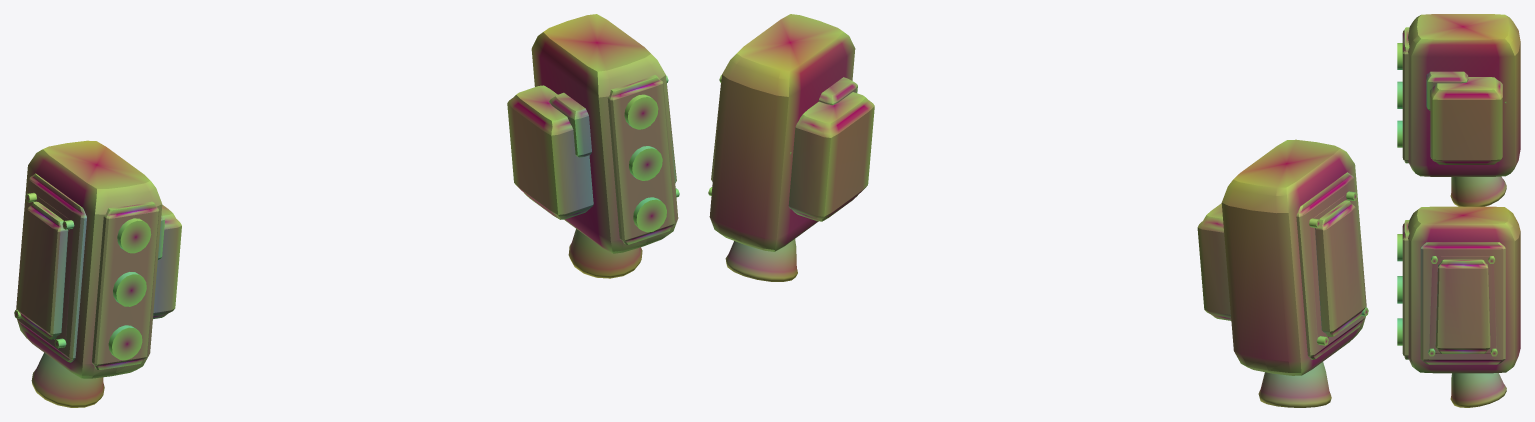
The model's file is llm_gen_leg_thrusters_103_4442d6.glb.
3 renders of one model, left to right at view 1: azimuth 30°, elevation 25°; view 2: azimuth 150°, elevation 25°; view 3: azimuth 270°, elevation 25°, orthographic. The views are drawn at different scales.
Parts seen in each view (by area): view 1: leg_missile_hull_0_cobalt_anodized_r, leg_missile_hull_0_cobalt_anodized_l, adapter_calf_clamp_r, leg_pod_armor_cover_6_barrel_metal_l, adapter_sub_missile_bezel_dark_1_adapter_dark_l, adapter_sub_missile_bezel_dark_1_adapter_dark_r, adapter_sub_side_frame_dark_5_adapter_dark_l, leg_ankle_bell_7_vernier_bell_vernier_l, leg_ankle_bell_7_vernier_bell_vernier_r, adapter_calf_clamp_l, adapter_leg_knee_mount_dark_8_adapter_dark_r, leg_cell_top_2_gold_l (+5 smaller); view 2: leg_missile_hull_0_cobalt_anodized_r, leg_missile_hull_0_cobalt_anodized_l, adapter_calf_clamp_r, leg_pod_armor_cover_6_barrel_metal_l, adapter_sub_side_frame_dark_5_adapter_dark_l, adapter_calf_clamp_l, leg_ankle_bell_7_vernier_bell_vernier_l, leg_ankle_bell_7_vernier_bell_vernier_r, adapter_leg_knee_mount_dark_8_adapter_dark_r; view 3: leg_missile_hull_0_cobalt_anodized_l, leg_missile_hull_0_cobalt_anodized_r, leg_pod_armor_cover_6_barrel_metal_r, adapter_calf_clamp_l, adapter_sub_side_frame_dark_5_adapter_dark_r, leg_ankle_bell_7_vernier_bell_vernier_r, leg_ankle_bell_7_vernier_bell_vernier_l, adapter_sub_missile_bezel_dark_1_adapter_dark_r, adapter_sub_missile_bezel_dark_1_adapter_dark_l, adapter_leg_knee_mount_dark_8_adapter_dark_l, leg_cell_top_2_gold_r, leg_cell_mid_3_gold_r (+4 smaller).
Part boxes in pixels (bbox=[...]): leg_missile_hull_0_cobalt_anodized_r: bbox=[531, 14, 678, 253]; leg_missile_hull_0_cobalt_anodized_l: bbox=[16, 140, 162, 378]; adapter_calf_clamp_r: bbox=[507, 85, 593, 219]; leg_pod_armor_cover_6_barrel_metal_l: bbox=[14, 192, 74, 348]; adapter_sub_missile_bezel_dark_1_adapter_dark_l: bbox=[92, 201, 159, 369]; adapter_sub_missile_bezel_dark_1_adapter_dark_r: bbox=[607, 75, 675, 244]; adapter_sub_side_frame_dark_5_adapter_dark_l: bbox=[17, 173, 86, 362]; leg_ankle_bell_7_vernier_bell_vernier_l: bbox=[31, 352, 104, 407]; leg_ankle_bell_7_vernier_bell_vernier_r: bbox=[568, 229, 642, 278]; adapter_calf_clamp_l: bbox=[153, 205, 181, 318]; adapter_leg_knee_mount_dark_8_adapter_dark_r: bbox=[549, 92, 591, 157]; leg_cell_top_2_gold_l: bbox=[117, 218, 151, 253]; leg_missile_hull_0_cobalt_anodized_r: bbox=[709, 14, 855, 251]; leg_missile_hull_0_cobalt_anodized_l: bbox=[1221, 139, 1366, 375]; adapter_calf_clamp_r: bbox=[788, 92, 874, 221]; leg_pod_armor_cover_6_barrel_metal_l: bbox=[1309, 191, 1368, 345]; adapter_sub_side_frame_dark_5_adapter_dark_l: bbox=[1296, 172, 1365, 359]; adapter_calf_clamp_l: bbox=[1197, 203, 1231, 320]; leg_ankle_bell_7_vernier_bell_vernier_l: bbox=[1258, 362, 1331, 407]; leg_ankle_bell_7_vernier_bell_vernier_r: bbox=[725, 239, 797, 281]; adapter_leg_knee_mount_dark_8_adapter_dark_r: bbox=[818, 77, 857, 105]; leg_missile_hull_0_cobalt_anodized_l: bbox=[1408, 14, 1520, 176]; leg_missile_hull_0_cobalt_anodized_r: bbox=[1408, 206, 1520, 373]; leg_pod_armor_cover_6_barrel_metal_r: bbox=[1428, 256, 1497, 356]; adapter_calf_clamp_l: bbox=[1430, 77, 1502, 164]; adapter_sub_side_frame_dark_5_adapter_dark_r: bbox=[1420, 242, 1505, 364]; leg_ankle_bell_7_vernier_bell_vernier_r: bbox=[1450, 373, 1506, 407]; leg_ankle_bell_7_vernier_bell_vernier_l: bbox=[1450, 176, 1506, 206]; adapter_sub_missile_bezel_dark_1_adapter_dark_r: bbox=[1402, 220, 1409, 359]; adapter_sub_missile_bezel_dark_1_adapter_dark_l: bbox=[1402, 27, 1409, 163]; adapter_leg_knee_mount_dark_8_adapter_dark_l: bbox=[1426, 71, 1468, 110]; leg_cell_top_2_gold_r: bbox=[1397, 234, 1402, 261]; leg_cell_mid_3_gold_r: bbox=[1397, 276, 1402, 303].
Bounding box in the file's own units: 84.69 × 30.45 × 18.63.
